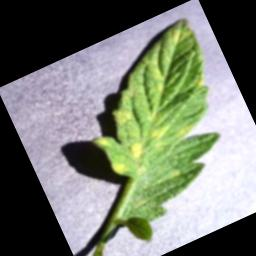Leaf_Mold: (165, 21, 193, 47), (124, 137, 150, 164), (109, 103, 135, 129), (142, 120, 171, 143), (173, 120, 198, 139), (109, 158, 130, 178), (191, 73, 206, 90)
